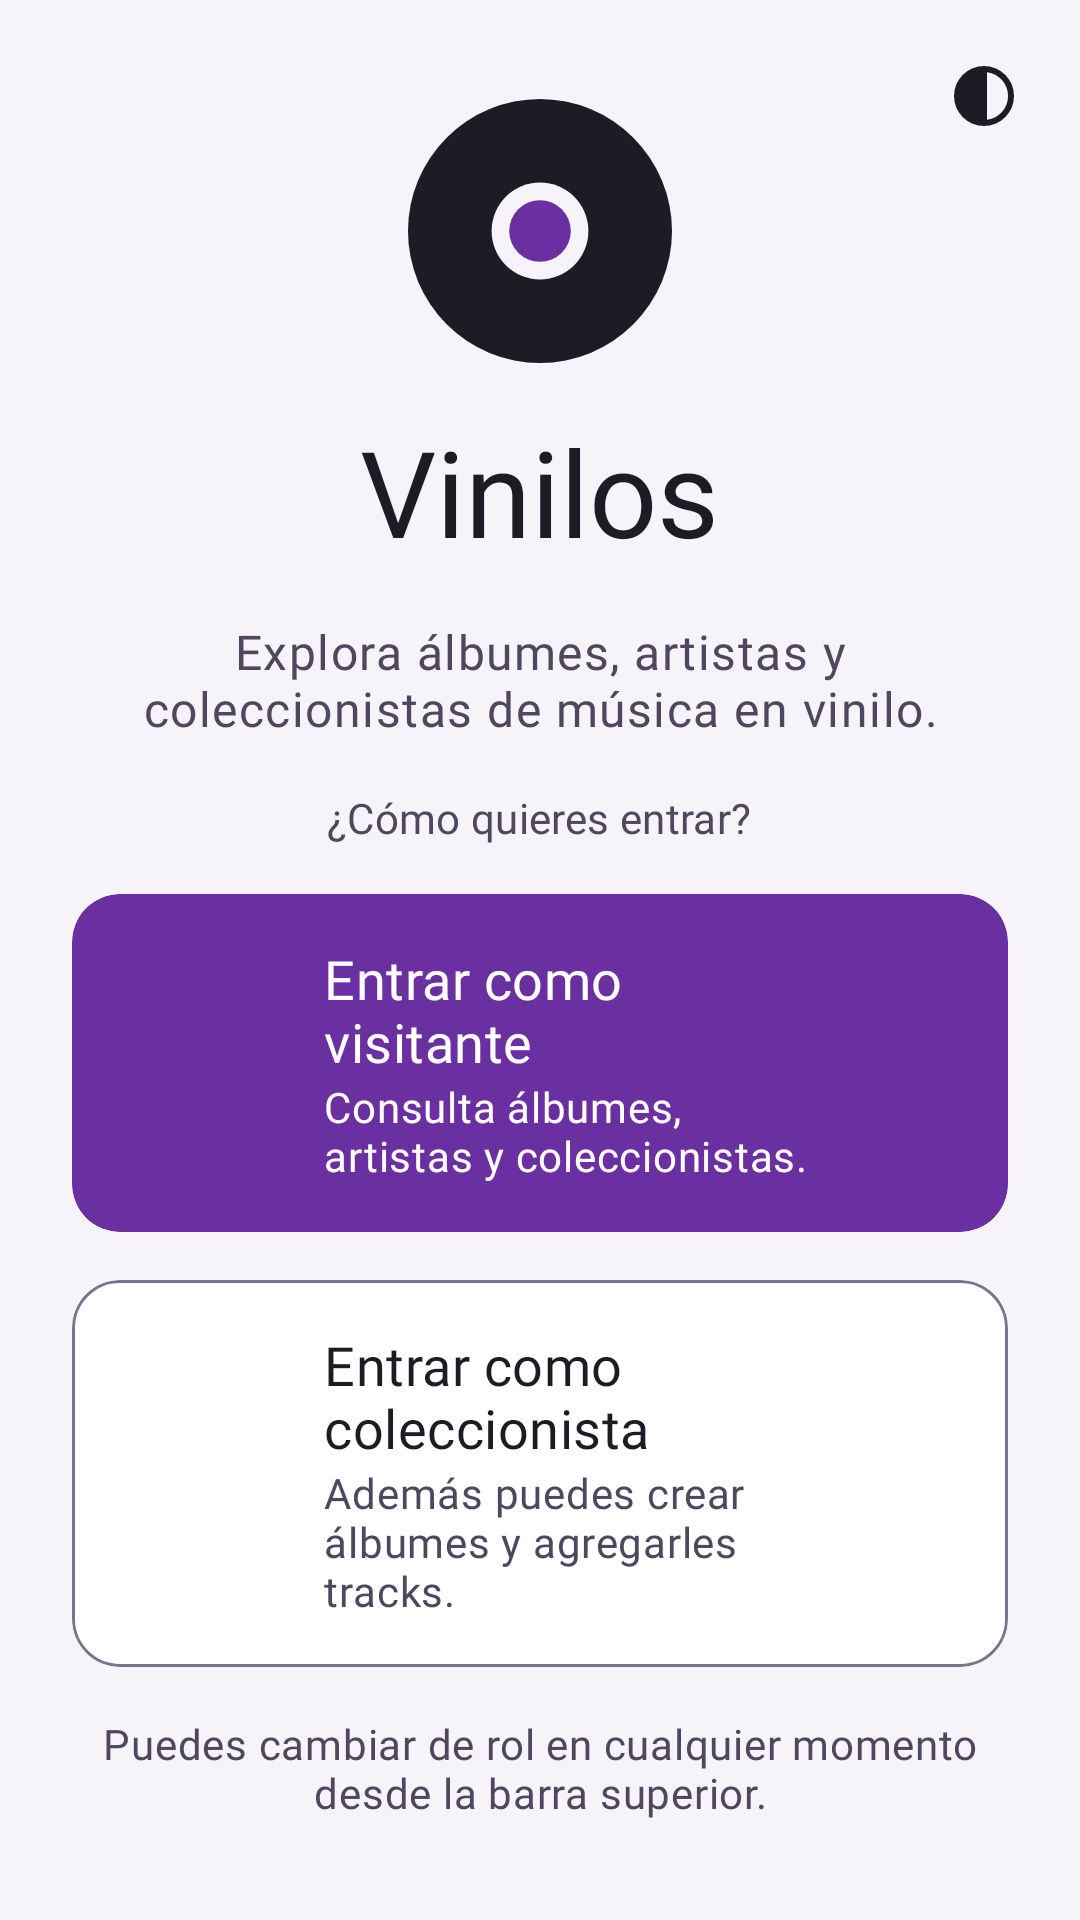

Named icons in this screenshot (1080x1920) and their centers, [x,y]:
Tema: [984,96]
